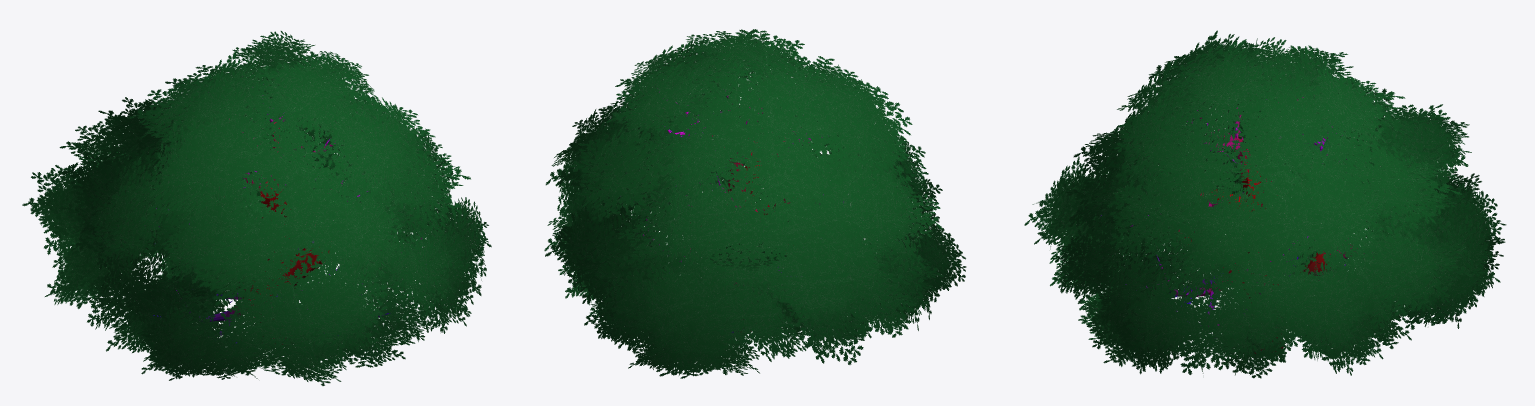
The model's file is PT_Oak_Tree_02_green_cut.fbx.
3 views of the same model, side by side, from view 1: azimuth 30°, elevation 25°; view 2: azimuth 150°, elevation 25°; view 3: azimuth 270°, elevation 25° (orthographic). The views are drawn at different scales.
Parts seen in each view (by area): view 1: PT_Oak_Tree_02_green_cut; view 2: PT_Oak_Tree_02_green_cut; view 3: PT_Oak_Tree_02_green_cut.
Boxes of the visible parts, <box> form: PT_Oak_Tree_02_green_cut: <box>22,31,491,385</box>; PT_Oak_Tree_02_green_cut: <box>544,29,966,378</box>; PT_Oak_Tree_02_green_cut: <box>1024,30,1506,378</box>.
Bounding box in the file's own units: 1665 × 1166 × 1705.
